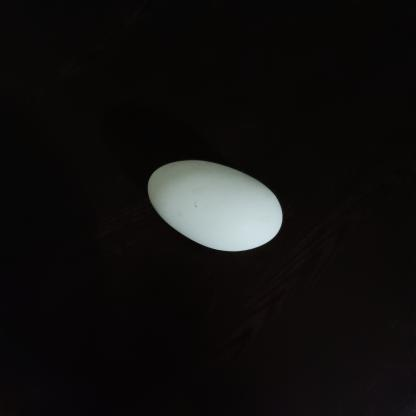egg: (140, 149, 295, 261)
